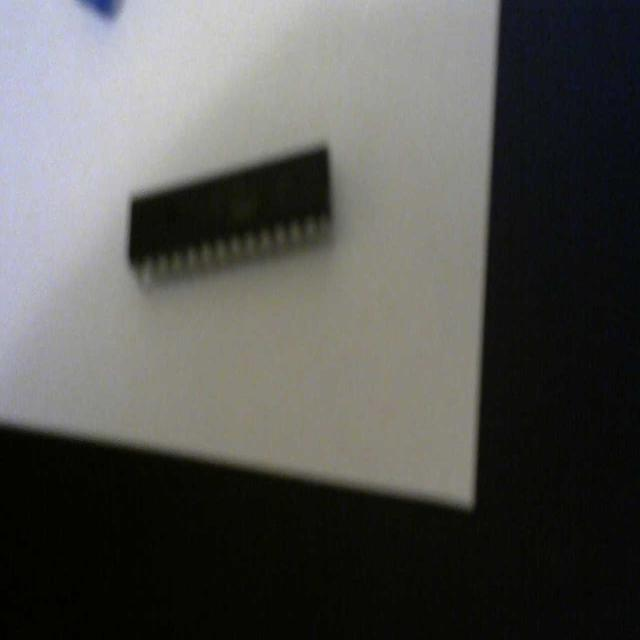atmega: (124, 137, 336, 290)
